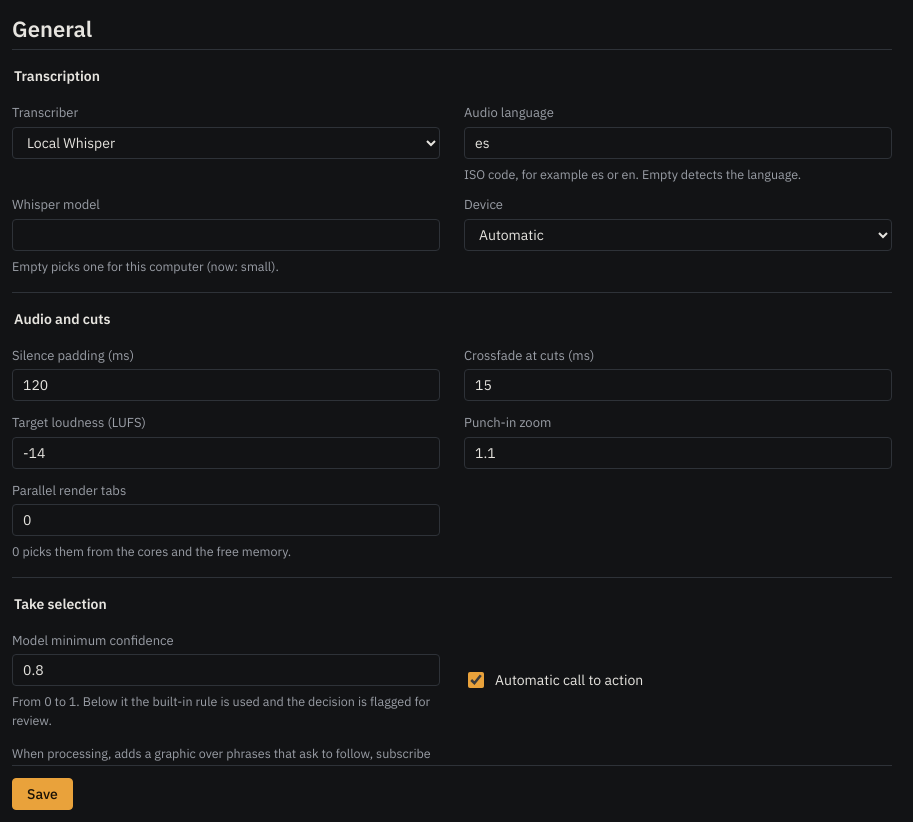
Test case: SettingsScreen › shows the backend's validation message on the field
Replace the text in the field labelled "Punch-in zoom" with "0" at (678, 452), box x1=464 y1=436 x2=892 y2=468
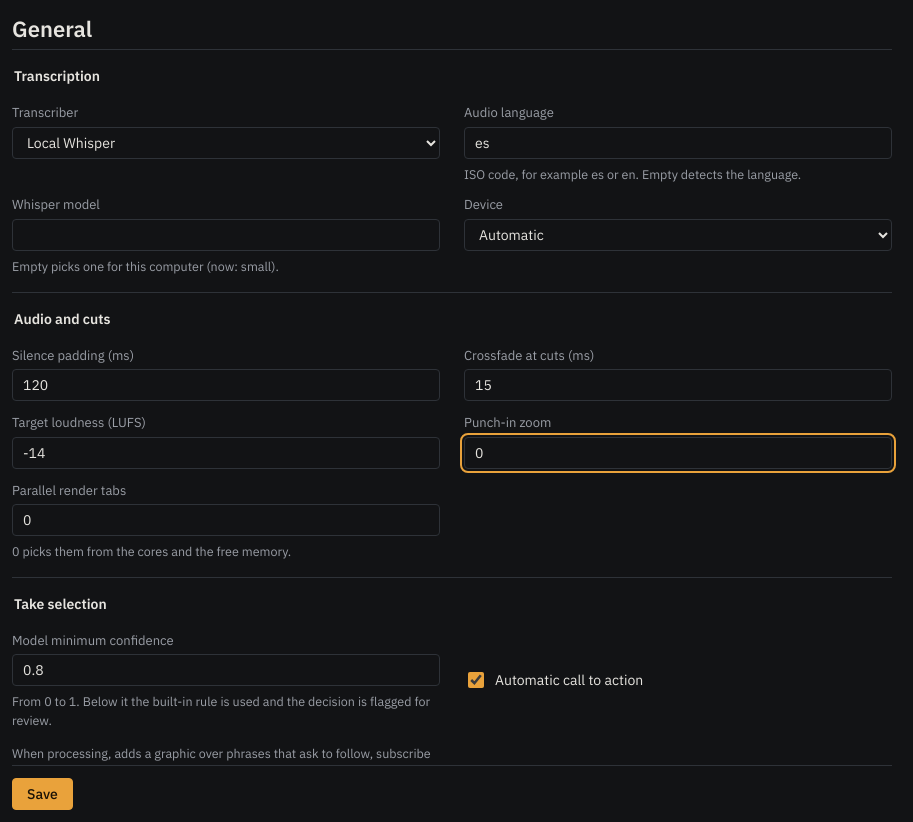
Click the button "Save" at (42, 794), box x1=12 y1=778 x2=73 y2=810
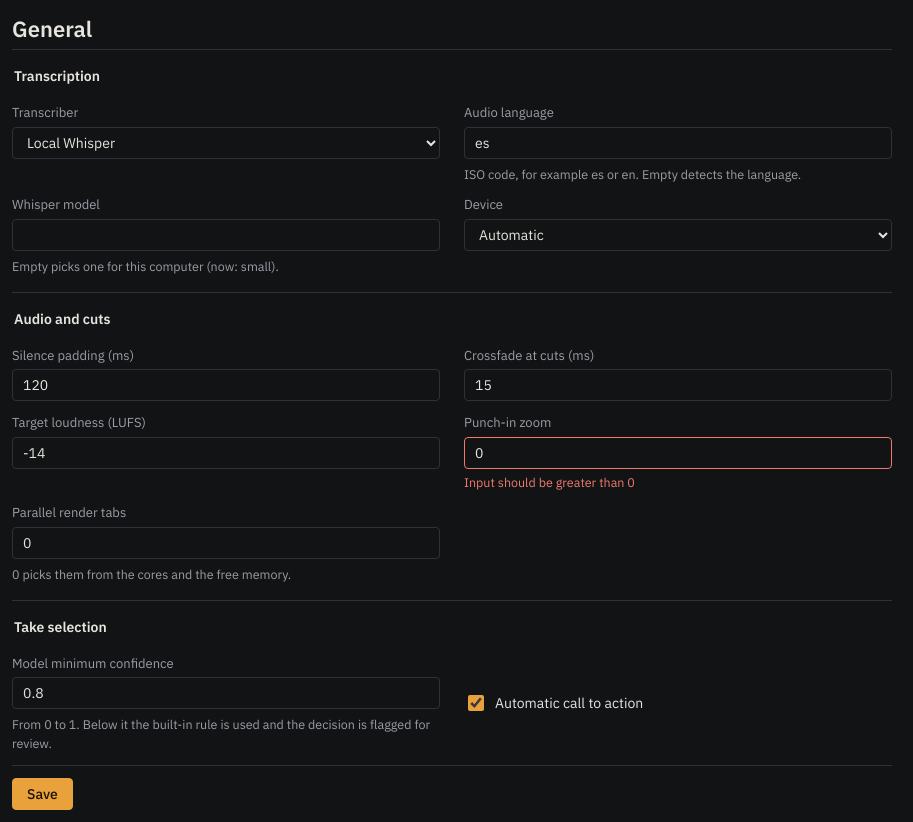
Expected: the text "Input should be greater than 0" is shown, x1=464 y1=474 x2=635 y2=490
